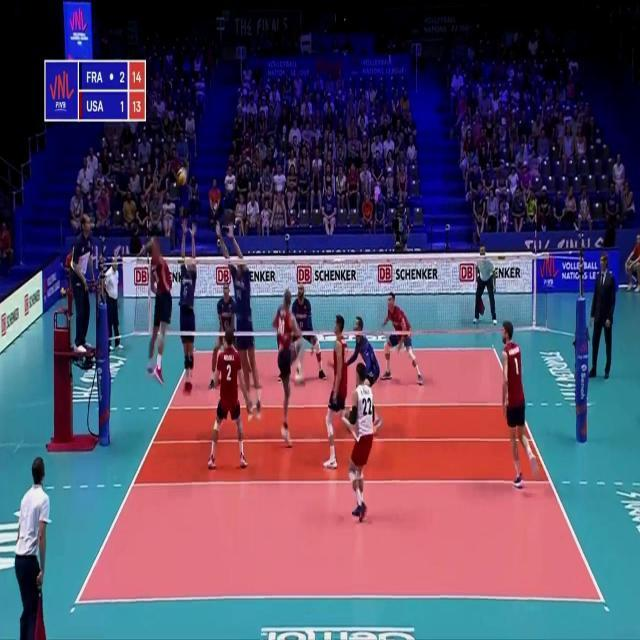volleyball: (176, 168, 188, 186)
